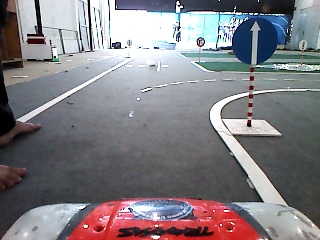straight: (232, 18, 279, 65)
